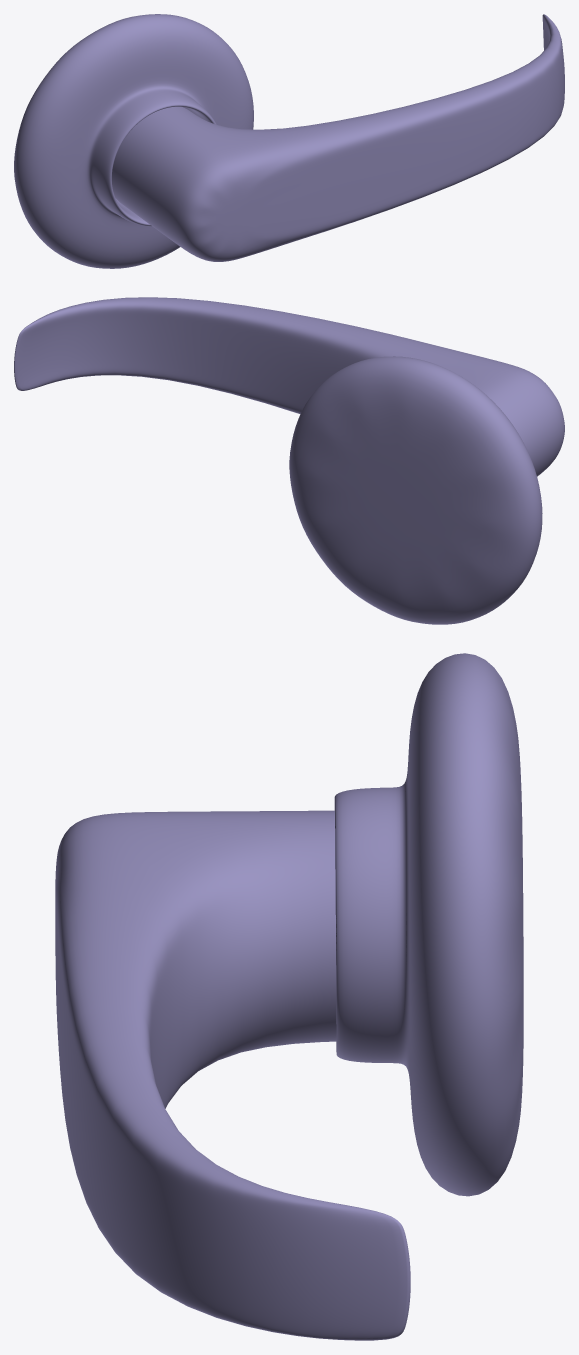
File: knob-1.dae
The picture shows the model from 3 angles, top to bottom: view 1: azimuth 30°, elevation 25°; view 2: azimuth 150°, elevation 25°; view 3: azimuth 270°, elevation 25°; orthographic projection. The views are drawn at different scales.
Visible parts, largest first — view 1: Handle_Back; view 2: Handle_Back; view 3: Handle_Back.
Boxes of the visible parts, box(x1,y1,x2,y2) form: Handle_Back: box(14, 14, 564, 268); Handle_Back: box(14, 297, 564, 624); Handle_Back: box(55, 653, 523, 1340).
Size of the model in its own units: 0.1765 by 0.0807 by 0.0696.
